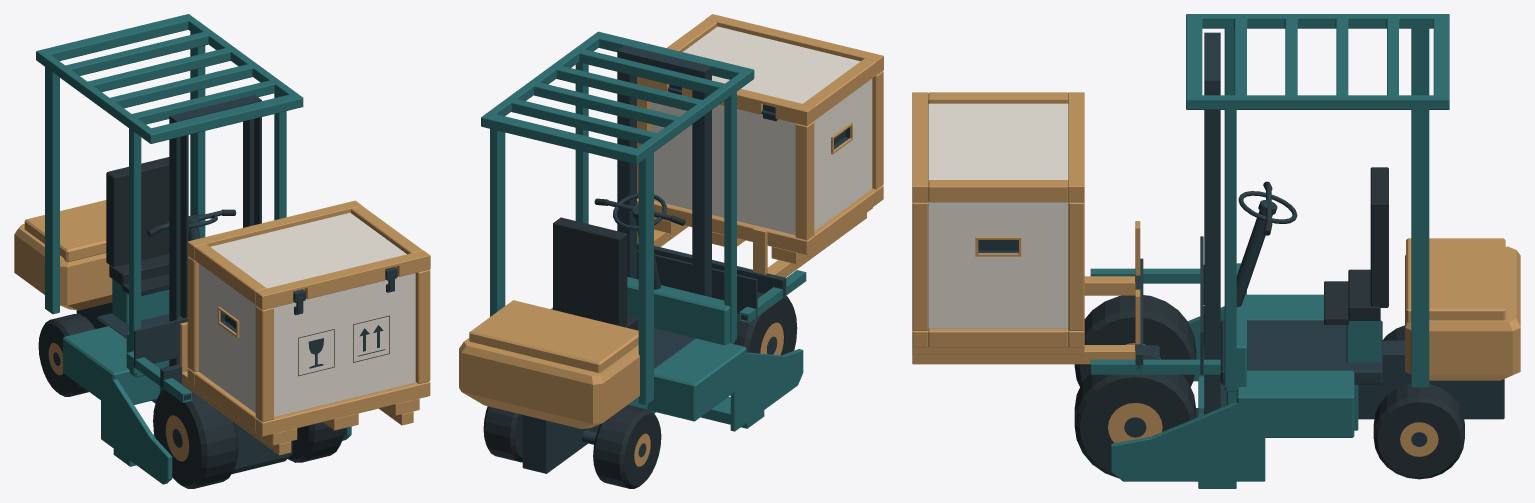
Rendered from fragile-forklift-fixture.glb.
3 views of the same model, side by side, from view 1: azimuth 30°, elevation 25°; view 2: azimuth 150°, elevation 25°; view 3: azimuth 270°, elevation 25° (orthographic). The views are drawn at different scales.
Parts seen in each view (by area): view 1: fragile-forklift-fixture__batch_01, fragile-forklift-fixture__batch_25, fragile-forklift-fixture__batch_24, fragile-forklift-fixture__batch_00, fragile-forklift-fixture__batch_02, fragile-forklift-fixture__batch_23, fragile-forklift-fixture__batch_28, fragile-forklift-fixture__batch_19, fragile-forklift-fixture__batch_11, fragile-forklift-fixture__batch_03, fragile-forklift-fixture__batch_22, fragile-forklift-fixture__batch_05 (+4 smaller); view 2: fragile-forklift-fixture__batch_01, fragile-forklift-fixture__batch_02, fragile-forklift-fixture__batch_25, fragile-forklift-fixture__batch_24, fragile-forklift-fixture__batch_00, fragile-forklift-fixture__batch_23, fragile-forklift-fixture__batch_28, fragile-forklift-fixture__batch_11, fragile-forklift-fixture__batch_03, fragile-forklift-fixture__batch_19, fragile-forklift-fixture__batch_14, fragile-forklift-fixture__batch_05 (+4 smaller); view 3: fragile-forklift-fixture__batch_01, fragile-forklift-fixture__batch_24, fragile-forklift-fixture__batch_00, fragile-forklift-fixture__batch_28, fragile-forklift-fixture__batch_02, fragile-forklift-fixture__batch_25, fragile-forklift-fixture__batch_22, fragile-forklift-fixture__batch_14, fragile-forklift-fixture__batch_19, fragile-forklift-fixture__batch_23, fragile-forklift-fixture__batch_08, fragile-forklift-fixture__batch_06 (+4 smaller).
Boxes of the visible parts, left/top/right/bottom form: fragile-forklift-fixture__batch_01: left=36, top=14, right=351, bottom=484; fragile-forklift-fixture__batch_25: left=210, top=213, right=415, bottom=417; fragile-forklift-fixture__batch_24: left=187, top=200, right=430, bottom=445; fragile-forklift-fixture__batch_00: left=76, top=95, right=292, bottom=474; fragile-forklift-fixture__batch_02: left=14, top=200, right=112, bottom=310; fragile-forklift-fixture__batch_23: left=106, top=157, right=169, bottom=295; fragile-forklift-fixture__batch_28: left=199, top=264, right=255, bottom=412; fragile-forklift-fixture__batch_19: left=153, top=384, right=238, bottom=488; fragile-forklift-fixture__batch_11: left=38, top=314, right=95, bottom=396; fragile-forklift-fixture__batch_03: left=134, top=316, right=187, bottom=367; fragile-forklift-fixture__batch_22: left=288, top=422, right=344, bottom=462; fragile-forklift-fixture__batch_05: left=180, top=322, right=291, bottom=455; fragile-forklift-fixture__batch_01: left=481, top=31, right=803, bottom=431; fragile-forklift-fixture__batch_02: left=459, top=300, right=639, bottom=428; fragile-forklift-fixture__batch_25: left=651, top=26, right=860, bottom=235; fragile-forklift-fixture__batch_24: left=637, top=14, right=883, bottom=264; fragile-forklift-fixture__batch_00: left=522, top=45, right=711, bottom=473; fragile-forklift-fixture__batch_23: left=553, top=217, right=638, bottom=330; fragile-forklift-fixture__batch_28: left=813, top=78, right=872, bottom=230; fragile-forklift-fixture__batch_11: left=593, top=405, right=661, bottom=488; fragile-forklift-fixture__batch_03: left=637, top=250, right=757, bottom=317; fragile-forklift-fixture__batch_19: left=733, top=292, right=797, bottom=355; fragile-forklift-fixture__batch_14: left=483, top=406, right=522, bottom=462; fragile-forklift-fixture__batch_05: left=753, top=213, right=866, bottom=277; fragile-forklift-fixture__batch_01: left=1111, top=14, right=1449, bottom=488; fragile-forklift-fixture__batch_24: left=912, top=92, right=1084, bottom=354; fragile-forklift-fixture__batch_00: left=1143, top=32, right=1504, bottom=419; fragile-forklift-fixture__batch_28: left=928, top=202, right=1068, bottom=328; fragile-forklift-fixture__batch_02: left=1405, top=238, right=1520, bottom=380; fragile-forklift-fixture__batch_25: left=928, top=103, right=1068, bottom=180; fragile-forklift-fixture__batch_22: left=1074, top=355, right=1196, bottom=478; fragile-forklift-fixture__batch_14: left=1373, top=384, right=1464, bottom=479; fragile-forklift-fixture__batch_19: left=1074, top=295, right=1196, bottom=386; fragile-forklift-fixture__batch_23: left=1324, top=167, right=1388, bottom=324; fragile-forklift-fixture__batch_08: left=1090, top=268, right=1220, bottom=374; fragile-forklift-fixture__batch_06: left=912, top=289, right=1140, bottom=364.
Bounding box in the file's own units: 1.2 × 2.1 × 3.
